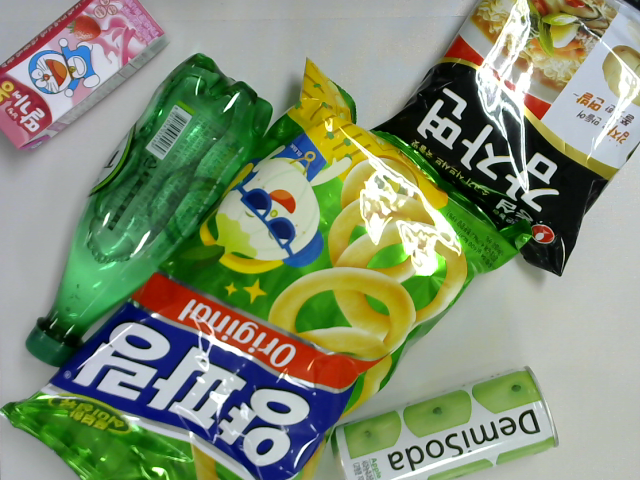Demisoda_Apple_Can_250ml: (331, 366, 559, 480)
Oninon_Ring: (1, 58, 532, 479)
Potato: (369, 1, 638, 277)
Strawberry_E_Mong: (1, 1, 173, 154)
Treviraim_500ml: (23, 54, 273, 366)
